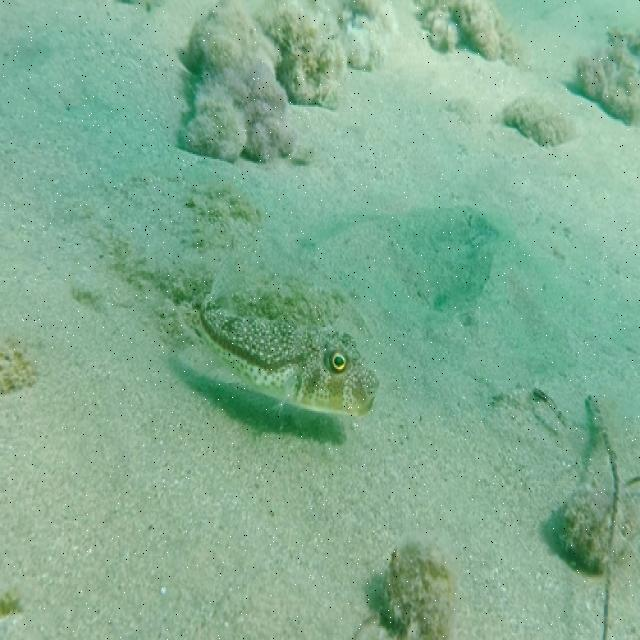Balik: (201, 300, 378, 416)
